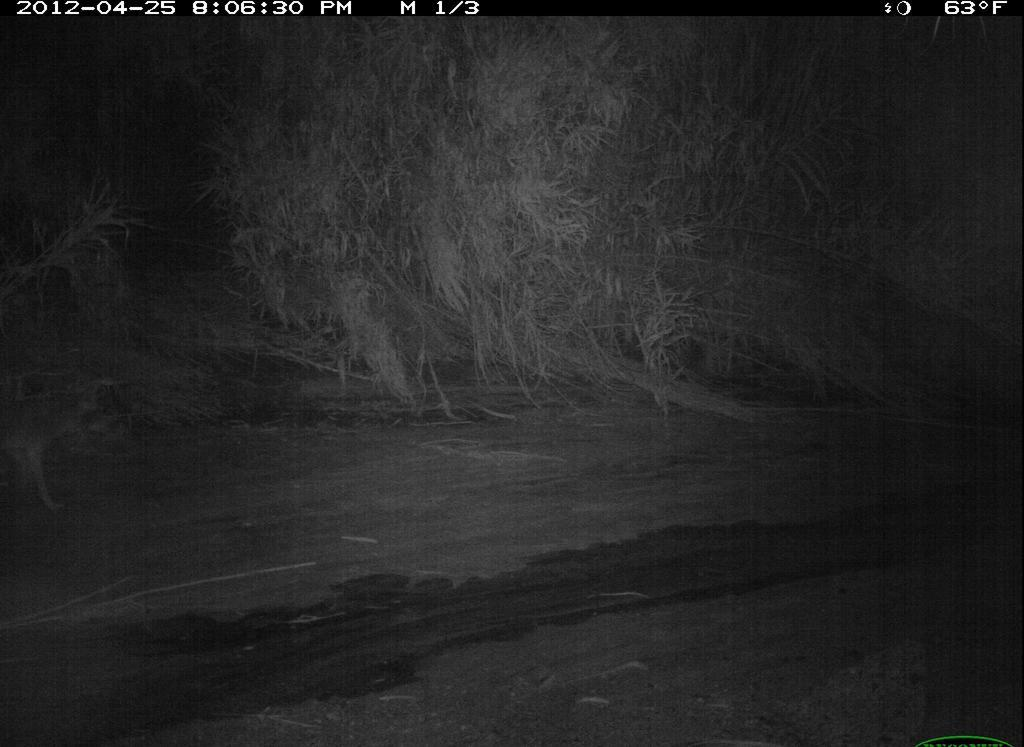coyote: (1, 368, 117, 536)
